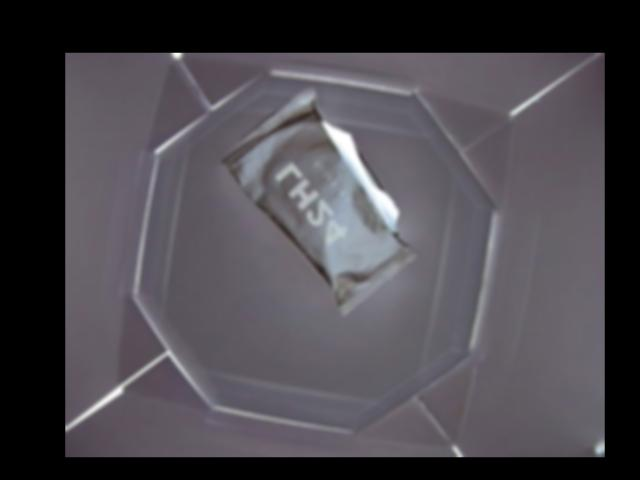Medicine: (220, 83, 415, 318)
